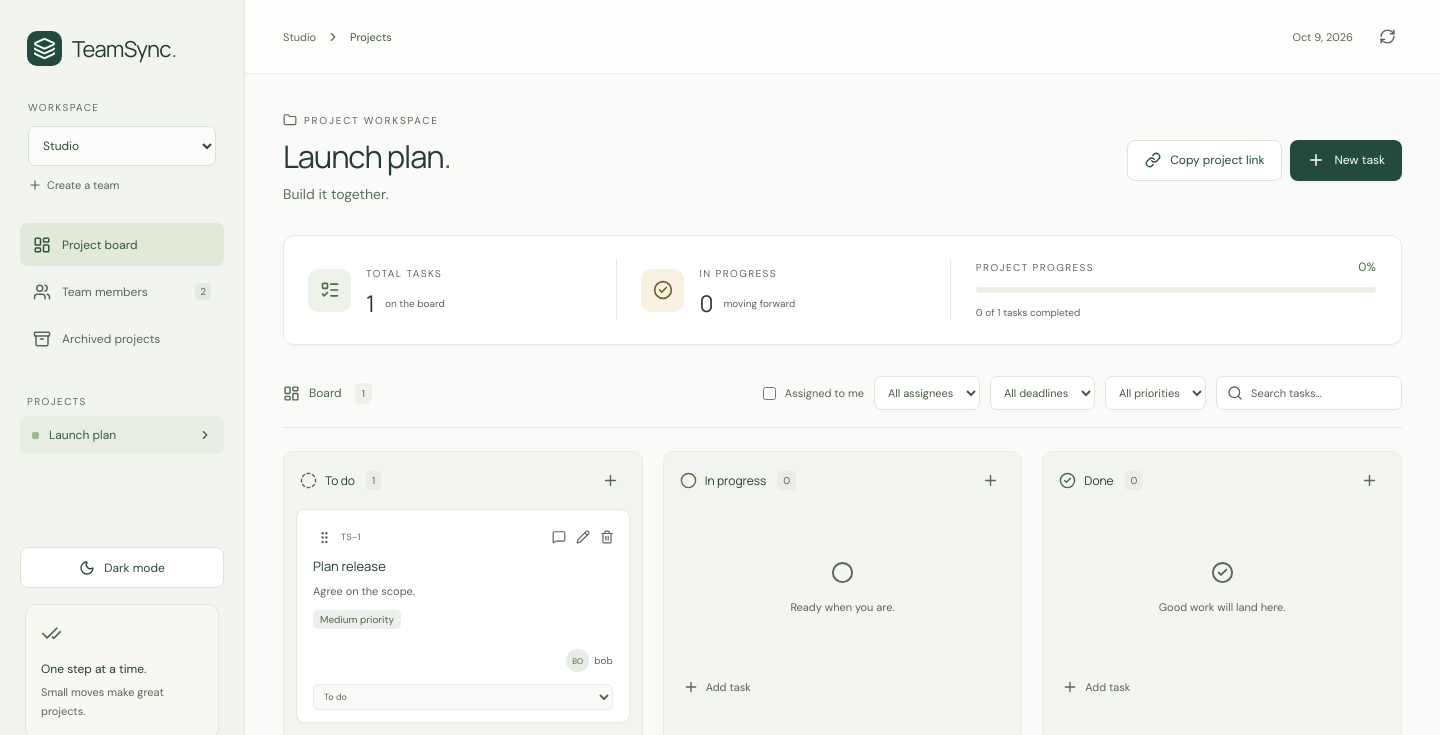
Test: hides admin controls from a member
Check: the heading "Launch plan." is shown, box [283,136,450,176]
Check: the button "New task" is shown, box [1290,140,1402,180]
Click the button "Team members 2" at [122, 292], box [20,270,224,313]
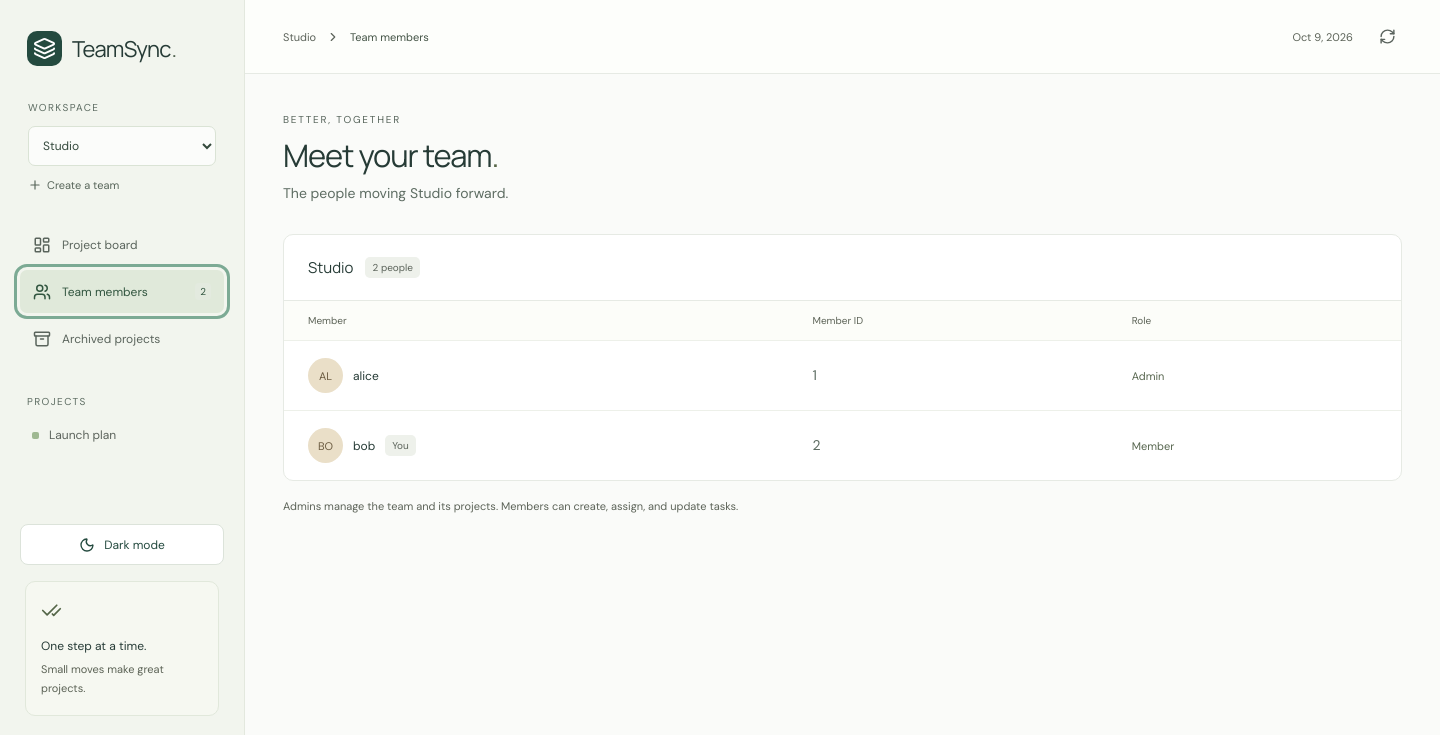
Check: the heading "Meet your team." is shown, box [283,135,508,175]
